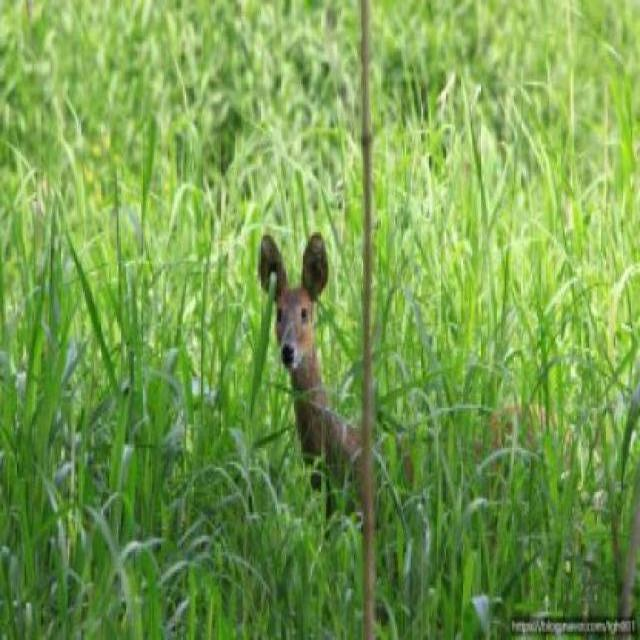deer: (246, 238, 432, 567)
